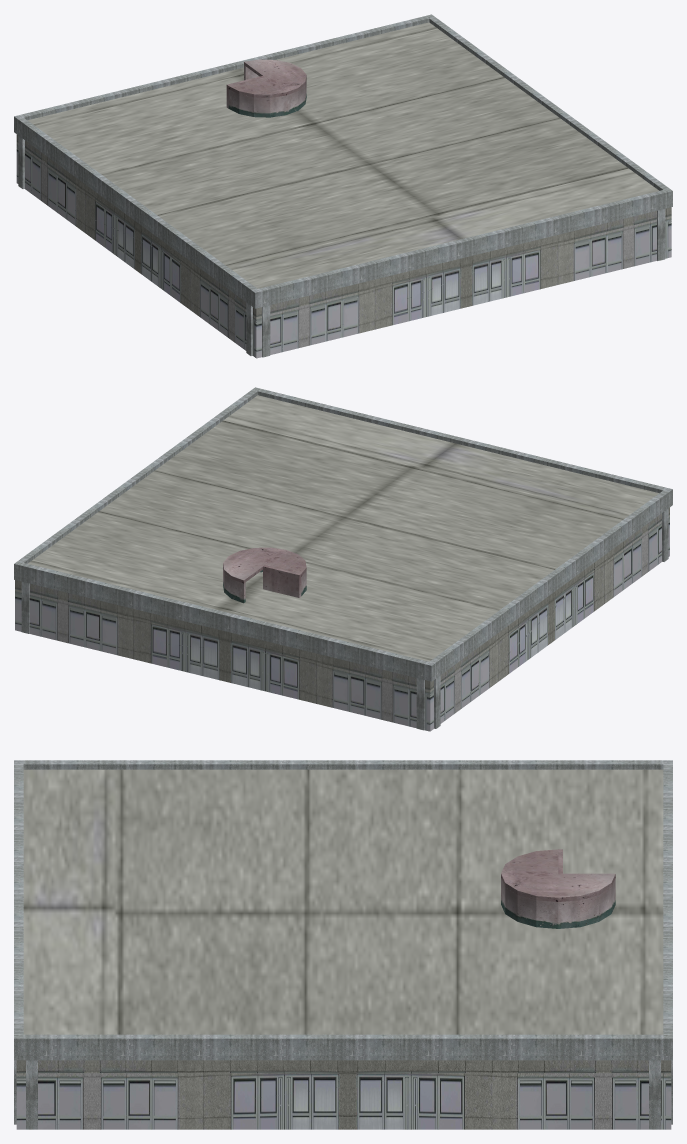
The model's file is BagSS10top_100.fbx.
3 views of the same model, one above another, from view 1: azimuth 30°, elevation 25°; view 2: azimuth 150°, elevation 25°; view 3: azimuth 270°, elevation 25° (orthographic). The views are drawn at different scales.
Visible parts, largest first — view 1: topBox100, topRoof100, topStairs100; view 2: topBox100, topRoof100, topStairs100; view 3: topBox100, topRoof100, topStairs100.
Part boxes in pixels (left/top/right/bottom): topBox100: left=16, top=22, right=671, bottom=358; topRoof100: left=14, top=14, right=672, bottom=357; topStairs100: left=226, top=59, right=306, bottom=117; topBox100: left=15, top=395, right=669, bottom=731; topRoof100: left=14, top=387, right=672, bottom=730; topStairs100: left=223, top=547, right=306, bottom=603; topBox100: left=16, top=769, right=671, bottom=1129; topRoof100: left=14, top=760, right=672, bottom=1129; topStairs100: left=501, top=849, right=615, bottom=928.
Bounding box in the file's own units: 44.16 × 8.67 × 44.16.
